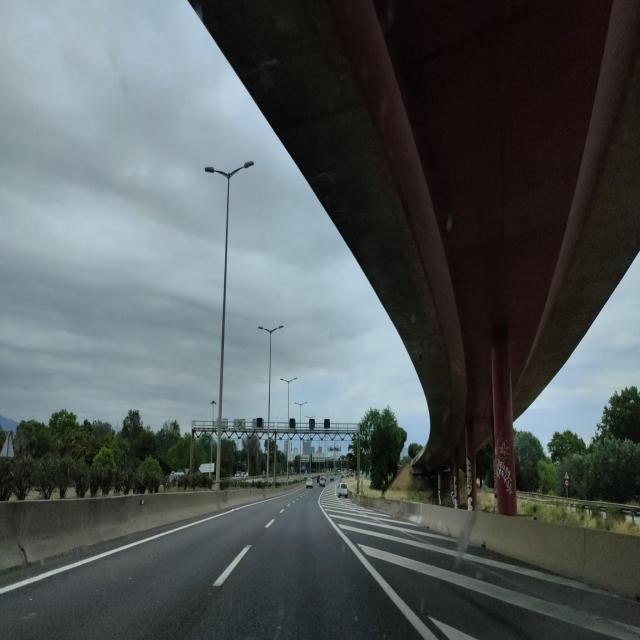car: (337, 482, 348, 499), (305, 478, 313, 489), (318, 477, 325, 487)
